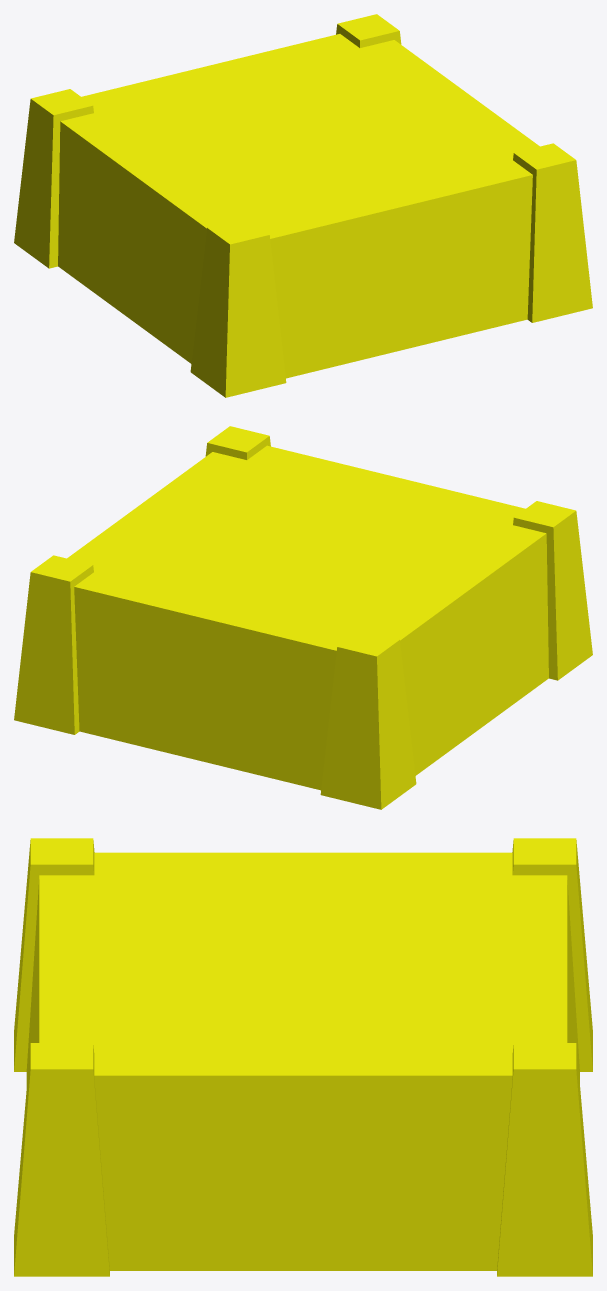
Rendered from 1st_table_001.glb.
3 views of the same model, one above another, from view 1: azimuth 30°, elevation 25°; view 2: azimuth 150°, elevation 25°; view 3: azimuth 270°, elevation 25° (orthographic). The views are drawn at different scales.
Visible parts, largest first — view 1: 1st_table_14; view 2: 1st_table_14; view 3: 1st_table_14.
Part boxes in pixels (x1,y1,x2,y2): 1st_table_14: [14, 14, 592, 397]; 1st_table_14: [14, 426, 592, 809]; 1st_table_14: [14, 838, 592, 1276].
Size of the model in its own units: 5.24 by 1.99 by 5.22.
1 material, 1 textured.
